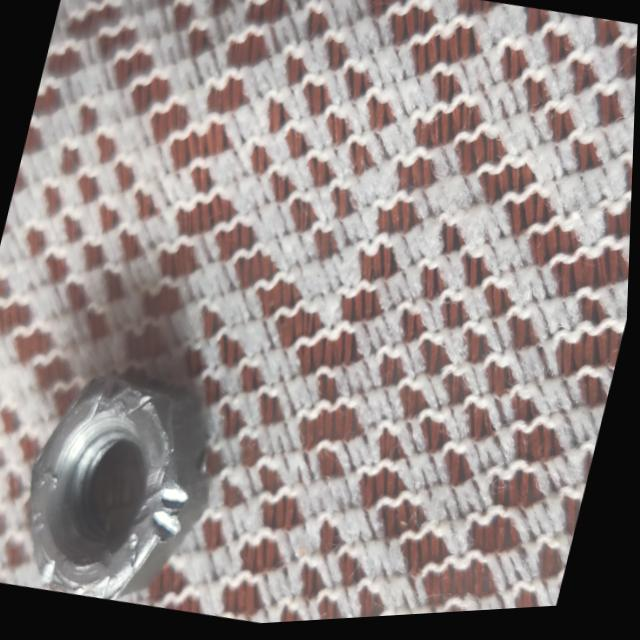infected nut: (34, 374, 212, 602)
